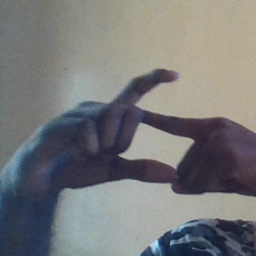E: (97, 63, 195, 188)
